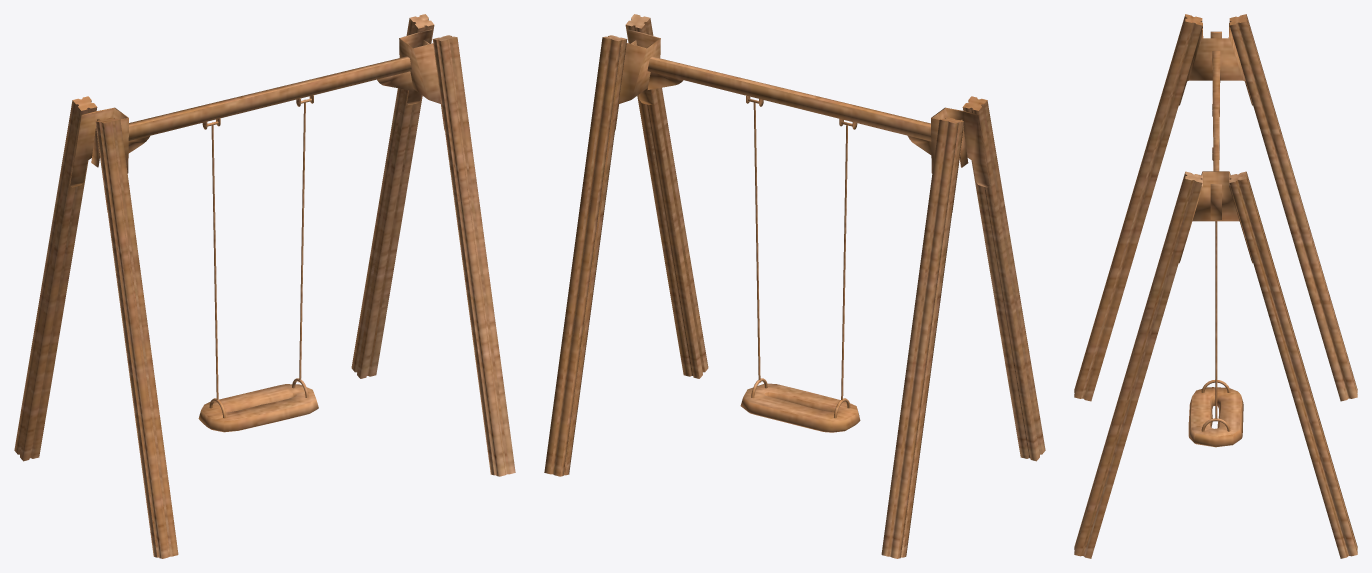
File: bigSwing.fbx
The picture shows the model from 3 angles, left to right: view 1: azimuth 30°, elevation 25°; view 2: azimuth 150°, elevation 25°; view 3: azimuth 270°, elevation 25°; orthographic projection. The views are drawn at different scales.
Visible parts, largest first — view 1: swing; view 2: swing; view 3: swing.
Boxes of the visible parts, x1,y1,x2,y2 form: swing: [14, 14, 515, 558]; swing: [544, 14, 1045, 558]; swing: [1074, 14, 1357, 558].
Bounding box in the file's own units: 203 × 218 × 148.
Materials: 1 (1 with a texture image).
